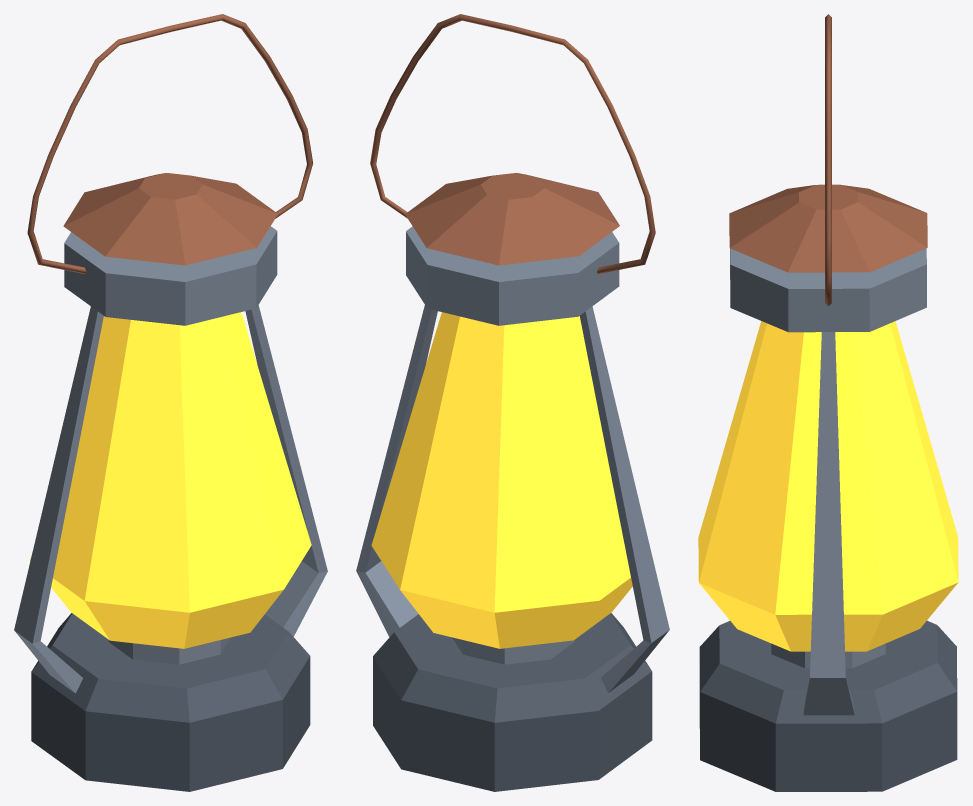
Rendered from Lantern.fbx.
The picture shows the model from 3 angles, left to right: view 1: azimuth 30°, elevation 25°; view 2: azimuth 150°, elevation 25°; view 3: azimuth 270°, elevation 25°; orthographic projection.
Parts seen in each view (by area): view 1: Lantern; view 2: Lantern; view 3: Lantern.
Part boxes in pixels (x1,y1,x2,y2): Lantern: [14, 14, 327, 791]; Lantern: [356, 14, 669, 791]; Lantern: [698, 14, 958, 791].
Bounding box in the file's own units: 144 × 427 × 187.
